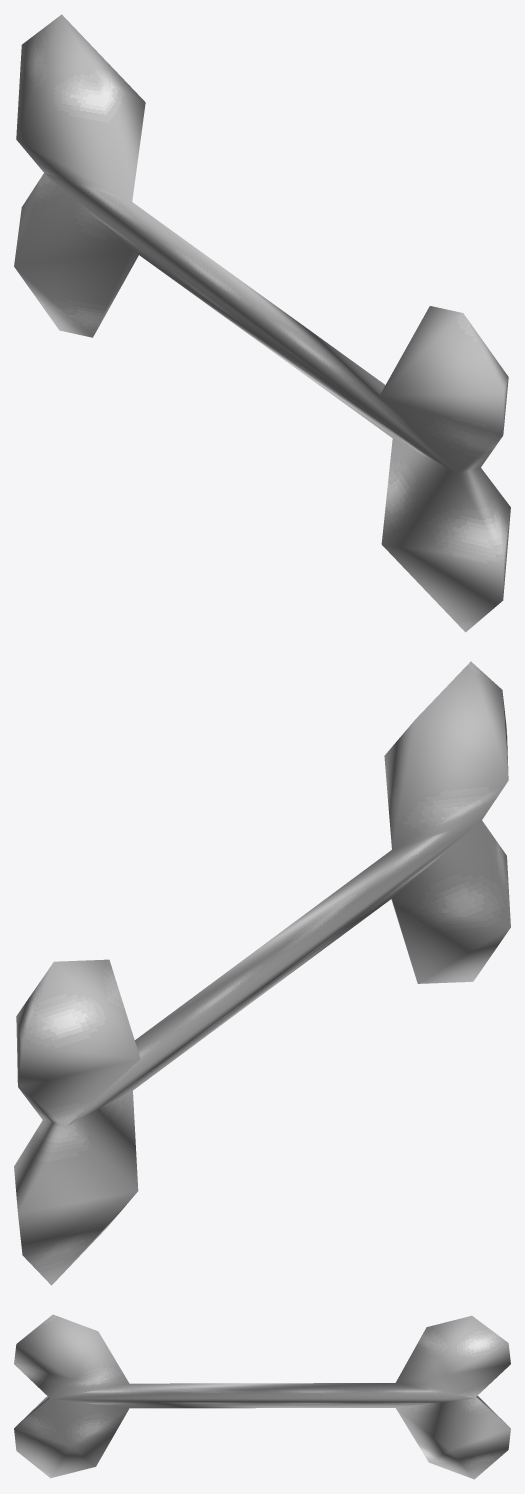
The model's file is 2727sbim03_20.gltf.
3 renders of one model, top to bottom at view 1: azimuth 30°, elevation 25°; view 2: azimuth 150°, elevation 25°; view 3: azimuth 270°, elevation 25°, orthographic. The views are drawn at different scales.
Visible parts, largest first — view 1: 2727sbim03_20; view 2: 2727sbim03_20; view 3: 2727sbim03_20.
Boxes of the visible parts, left/top/right/bottom form: 2727sbim03_20: left=14, top=14, right=510, bottom=632; 2727sbim03_20: left=14, top=661, right=510, bottom=1285; 2727sbim03_20: left=14, top=1314, right=510, bottom=1479.
Bounding box in the file's own units: 0.3137 × 0.7563 × 2.08.
1 material, 1 textured.
